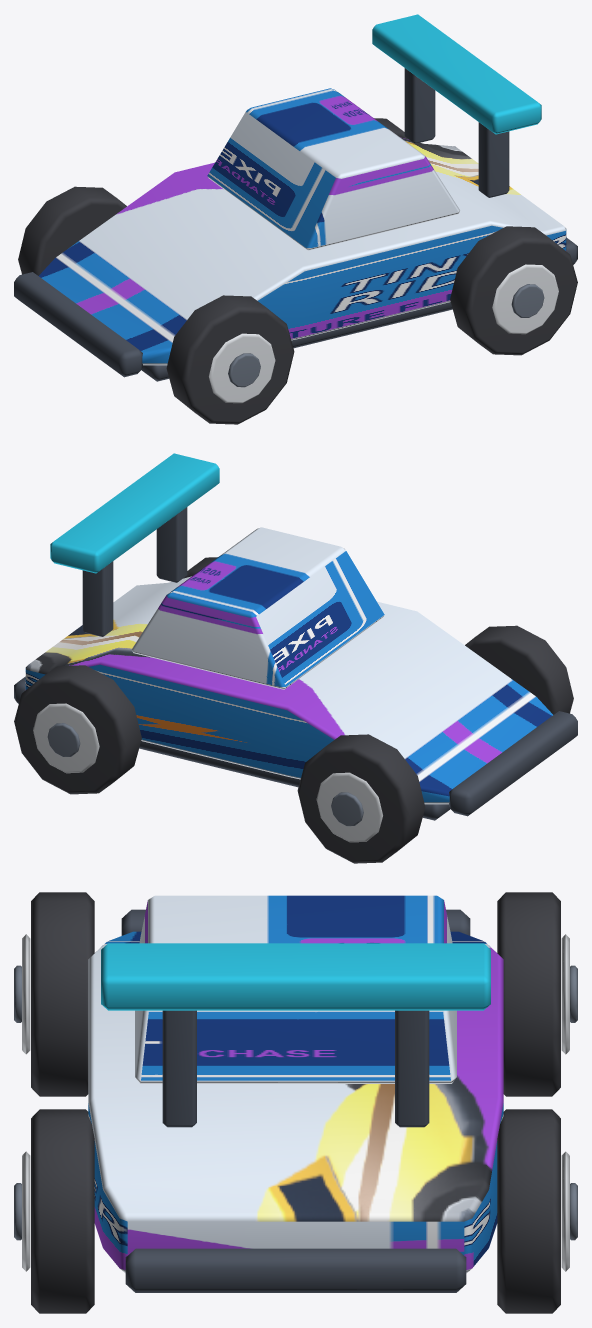
3 views of the same model, one above another, from view 1: azimuth 30°, elevation 25°; view 2: azimuth 150°, elevation 25°; view 3: azimuth 270°, elevation 25° (orthographic). The views are drawn at different scales.
Visible parts, largest first — view 1: FF-01_connected_shell, FF-01_cabin, Tire, Tire.002, rear airfoil, Tire.001, front bumper, Rim, Rim.002, wing support, wing support.001, underbody (+2 smaller); view 2: FF-01_connected_shell, FF-01_cabin, Tire.001, Tire.003, rear airfoil, Tire, front bumper, Rim.001, Rim.003, wing support.001, wing support, underbody (+2 smaller); view 3: FF-01_connected_shell, FF-01_cabin, rear airfoil, rear bumper, Tire.002, Tire.003, Tire, Tire.001, wing support, wing support.001, Rim, Rim.001 (+3 smaller).
Boxes of the visible parts, x1,y1,x2,y2 form: FF-01_connected_shell: (39, 137, 566, 365); FF-01_cabin: (207, 88, 459, 250); Tire: (166, 295, 294, 424); Tire.002: (450, 226, 577, 355); rear airfoil: (372, 14, 541, 134); Tire.001: (18, 186, 126, 275); front bumper: (14, 272, 142, 377); Rim: (209, 333, 275, 403); Rim.002: (492, 264, 558, 334); wing support: (478, 122, 509, 197); wing support.001: (404, 68, 435, 143); underbody: (141, 302, 452, 381); FF-01_connected_shell: (25, 576, 552, 804); FF-01_cabin: (132, 527, 384, 689); Tire.001: (297, 734, 425, 863); Tire.003: (14, 665, 141, 794); rear airfoil: (50, 453, 219, 573); Tire: (465, 625, 573, 714); front bumper: (449, 711, 577, 816); Rim.001: (316, 772, 382, 842); Rim.003: (33, 703, 99, 773); wing support.001: (82, 561, 113, 636); wing support: (156, 507, 187, 582); underbody: (139, 741, 450, 820); FF-01_connected_shell: (88, 931, 503, 1273); FF-01_cabin: (135, 895, 456, 1083); rear airfoil: (101, 943, 490, 1010); rear bumper: (125, 1248, 466, 1292); Tire.002: (31, 1109, 94, 1313); Tire.003: (497, 1109, 560, 1313); Tire: (31, 892, 94, 1096); Tire.001: (497, 892, 560, 1096); wing support: (162, 1010, 196, 1127); wing support.001: (395, 1010, 429, 1127); Rim: (22, 934, 30, 1054); Rim.001: (561, 934, 569, 1054).
Bounding box in the file's own units: 342 × 162 × 231.
